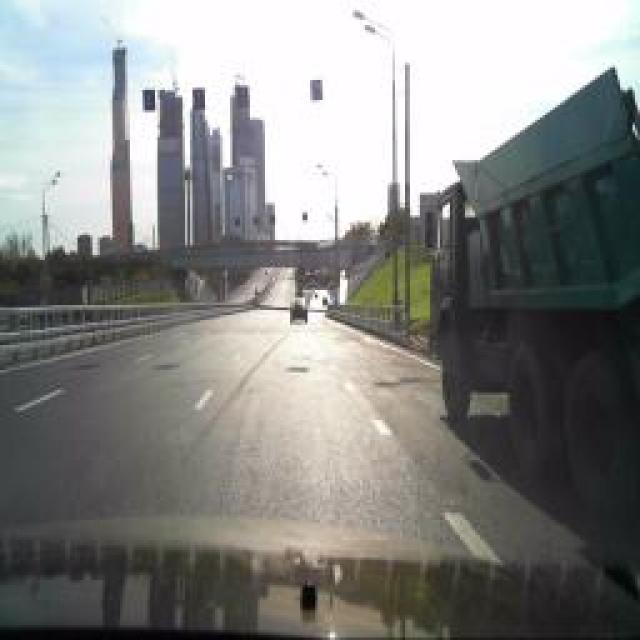sign: (142, 89, 156, 111), (236, 86, 249, 109), (193, 88, 205, 110), (310, 79, 322, 101)
